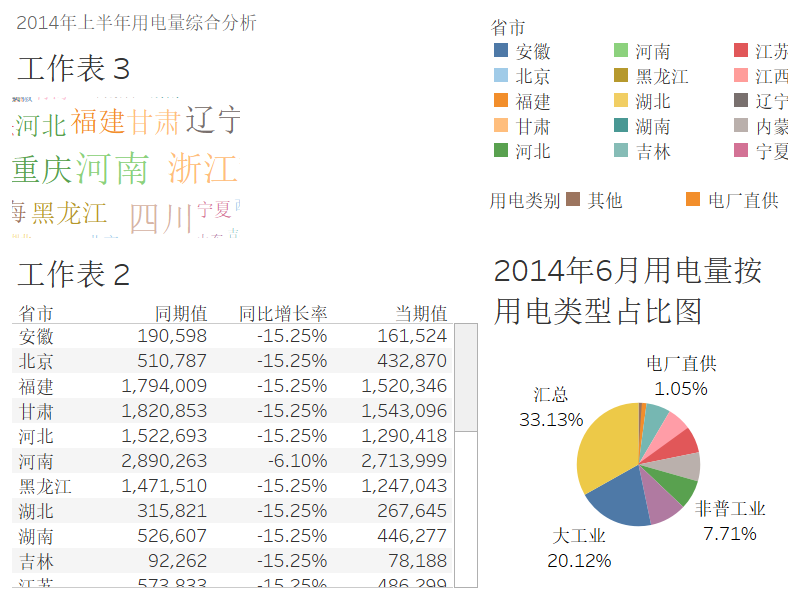

Layout of this report page (visuals, bound fields, positions):
{"tool":"tableau","page":{"name":"仪表板 1","canvas":[800,600],"ordinal":0},"visuals":[{"type":"text","box":[8,8,477,27.5]},{"type":"legend","title":"工作表 3","param":"[federated.1cnvqn81v7ut7013xrwgl1ku2kwi].[none:省市:nk]","box":[485,8,307,175]},{"type":"worksheet","title":"工作表 3","mark":"Text","box":[8,35.5,477,206]},{"type":"legend","title":"工作表 1","param":"[federated.1cnvqn81v7ut7013xrwgl1ku2kwi].[none:用电类别:nk]","box":[485,183,307,55]},{"type":"worksheet","title":"工作表 1","mark":"Pie","box":[485,238,307,354]},{"type":"worksheet","title":"工作表 2","mark":"Automatic","rows":["省市"],"box":[8,241.5,477,350.5]}]}

Visuals, with their boxes in screenshot pixels (x1, y1, x2, y2), scaled from the page's 800x600 canvas onto the 800x600 screenshot:
text: {"left": 8, "top": 8, "right": 485, "bottom": 36}
"工作表 3" legend: {"left": 485, "top": 8, "right": 792, "bottom": 183}
"工作表 3" worksheet (Text marks): {"left": 8, "top": 36, "right": 485, "bottom": 242}
"工作表 1" legend: {"left": 485, "top": 183, "right": 792, "bottom": 238}
"工作表 1" worksheet (Pie marks): {"left": 485, "top": 238, "right": 792, "bottom": 592}
"工作表 2" worksheet: {"left": 8, "top": 242, "right": 485, "bottom": 592}
